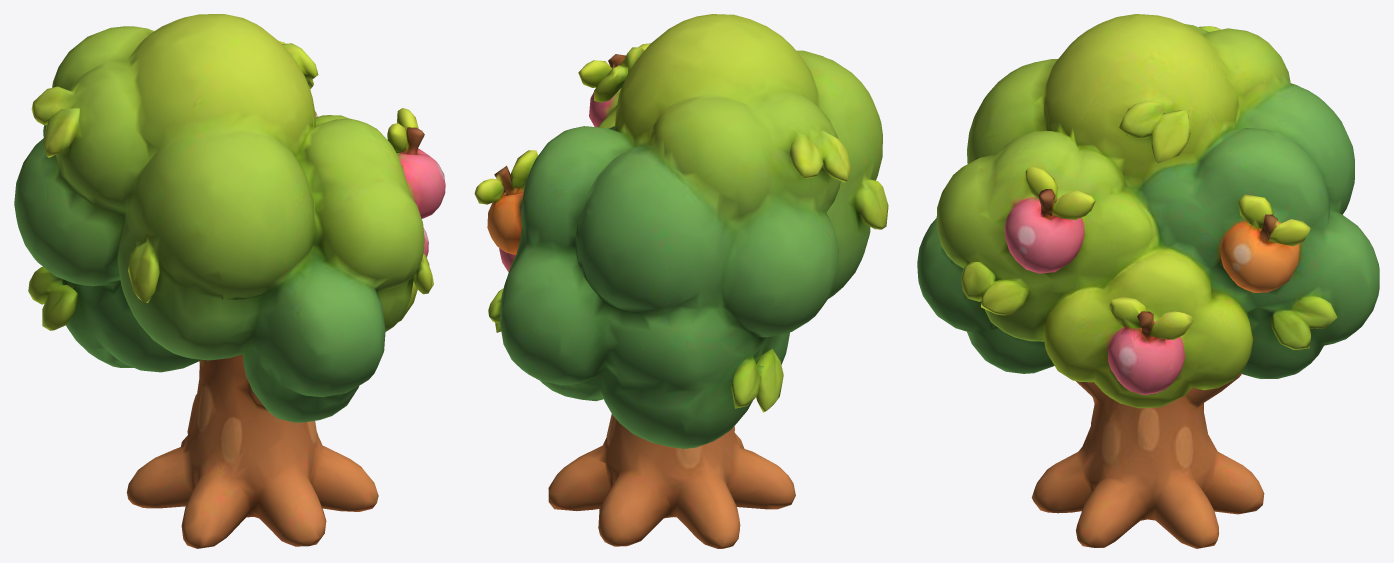
Rendered from prop_tree.glb.
The picture shows the model from 3 angles, left to right: view 1: azimuth 30°, elevation 25°; view 2: azimuth 150°, elevation 25°; view 3: azimuth 270°, elevation 25°; orthographic projection. The views are drawn at different scales.
Parts seen in each view (by area): view 1: tripo_node_499643e5-57d5-463c-9e19-9bee80acfe1d; view 2: tripo_node_499643e5-57d5-463c-9e19-9bee80acfe1d; view 3: tripo_node_499643e5-57d5-463c-9e19-9bee80acfe1d.
Boxes of the visible parts, x1,y1,x2,y2 form: tripo_node_499643e5-57d5-463c-9e19-9bee80acfe1d: [14, 14, 445, 548]; tripo_node_499643e5-57d5-463c-9e19-9bee80acfe1d: [474, 14, 888, 548]; tripo_node_499643e5-57d5-463c-9e19-9bee80acfe1d: [917, 14, 1379, 548].
Bounding box in the file's own units: 0.7645 × 1 × 0.9018.
Materials: 1 (1 with a texture image).
